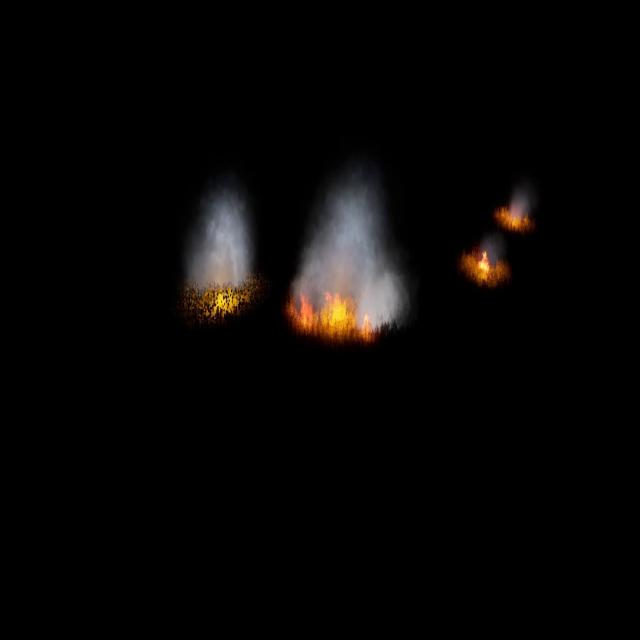fire: (286, 289, 382, 342), (186, 275, 255, 315), (464, 251, 512, 292), (497, 207, 533, 230)
smoke: (289, 165, 410, 329), (186, 184, 255, 284), (474, 228, 501, 266), (508, 182, 534, 217)
